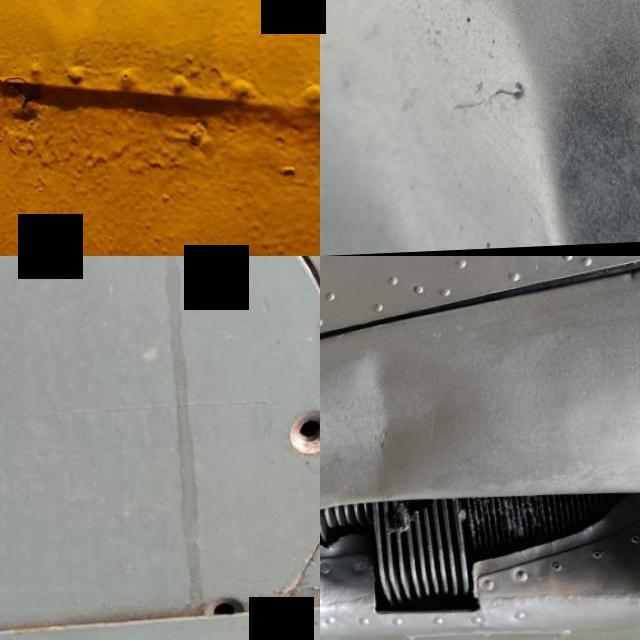Dent: (398, 0, 640, 254), (320, 333, 540, 516)
Missing_Fastener: (179, 565, 277, 640), (267, 379, 320, 498), (172, 256, 288, 306), (123, 621, 209, 640), (289, 604, 320, 640), (590, 256, 640, 276)
